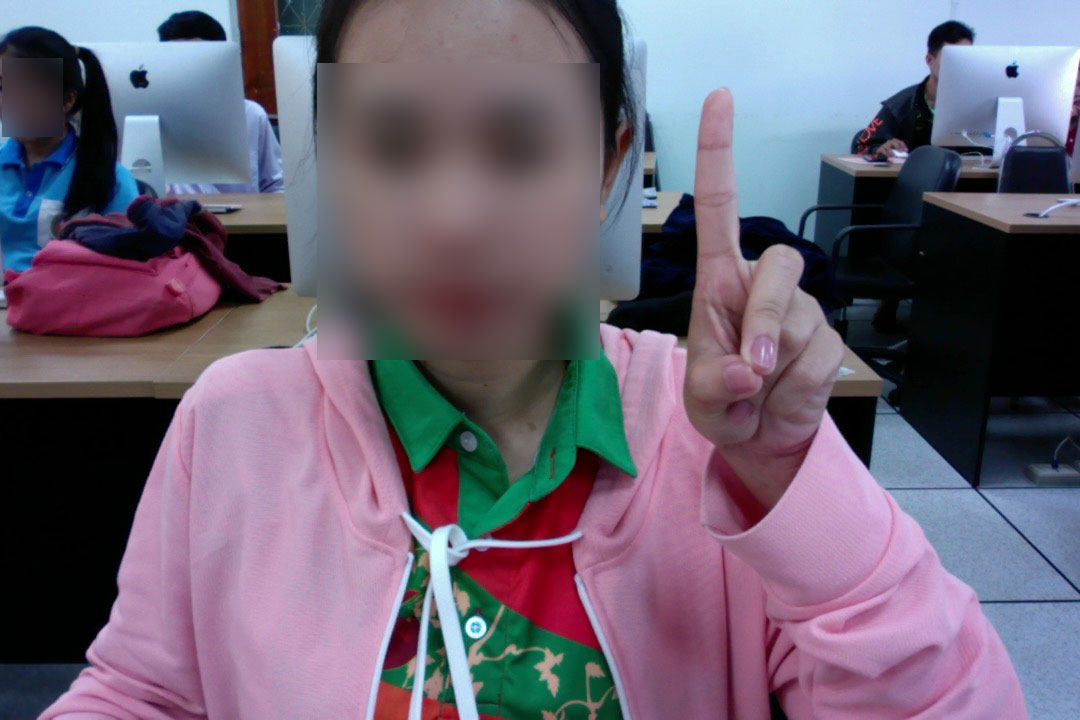dor: (667, 80, 853, 475)
